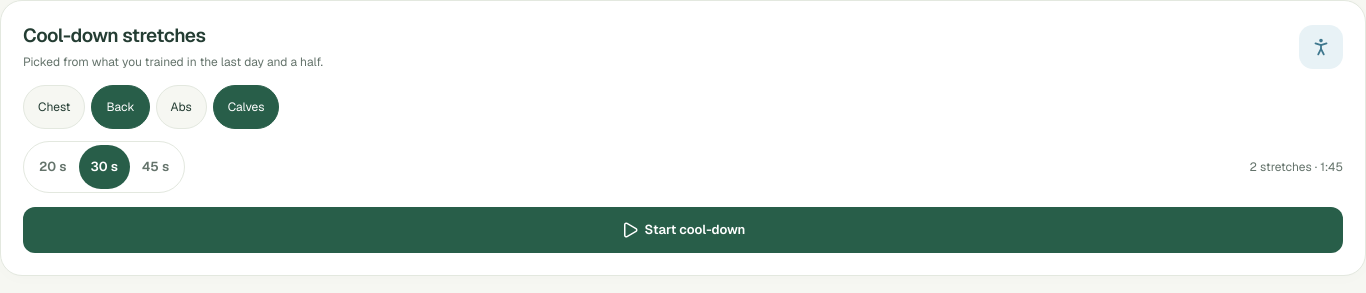
Test: Cool-down stretches › starts from what was trained in the last day and a half
Expected: the text "Picked from what you trained in the last day and a half." is shown, [23,53,323,71]
Expected: the text "2 stretches · 1:45" is shown, [1250,158,1343,176]
Click the button "Back".
click(121, 107)  # box [92,85,150,129]
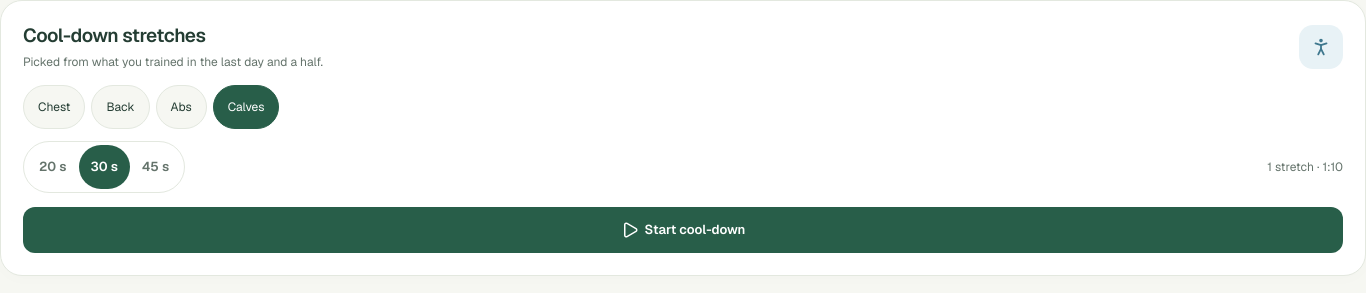
Click the button "Chest".
click(54, 107)  # box [23,85,86,129]
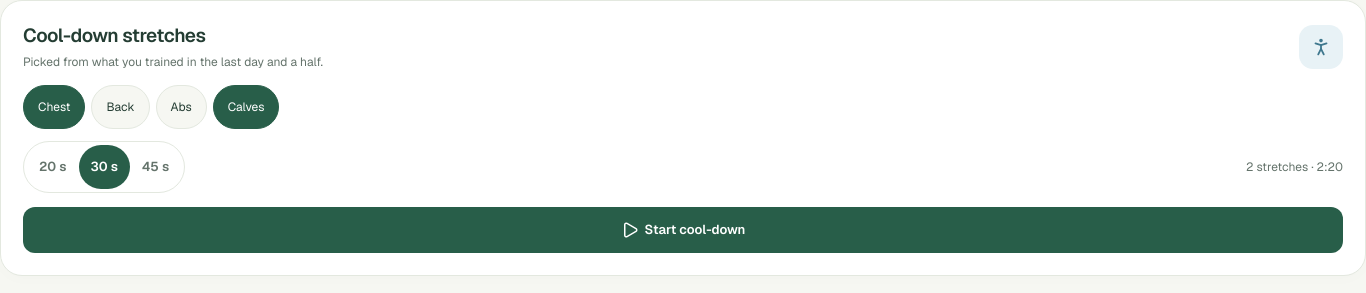
Expected: the text "2 stretches · 2:20" is shown, [1246,158,1343,176]
